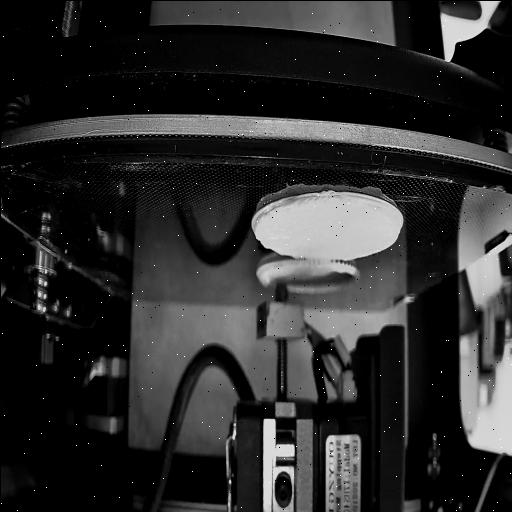over_extrusion: (253, 214, 270, 252)
